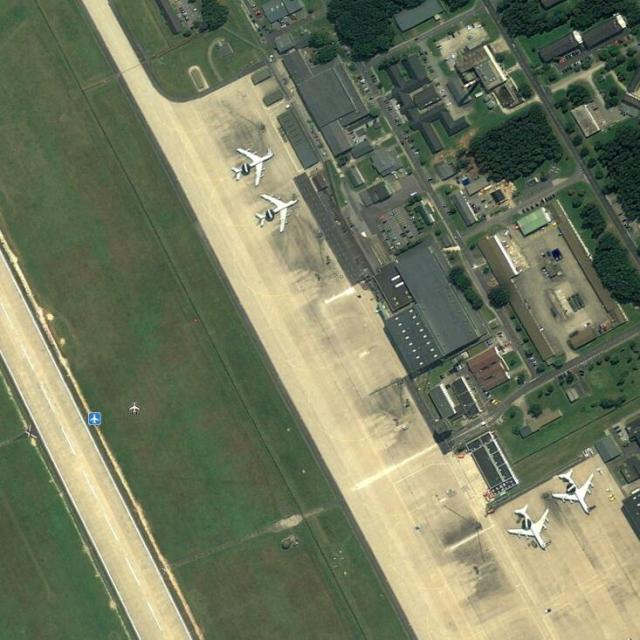fighter jet: (509, 504, 560, 558), (547, 469, 597, 518), (222, 142, 279, 183), (243, 189, 301, 229)
